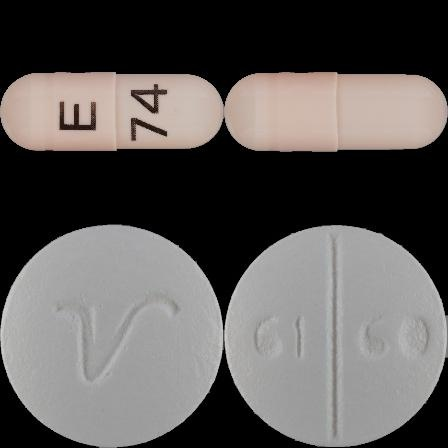61786-857: (0, 0, 224, 224)
